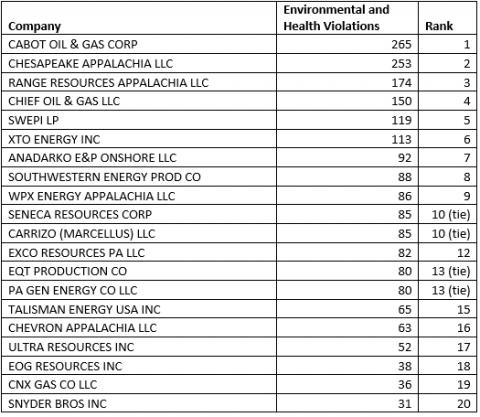fracking table: (2, 1, 478, 415)
